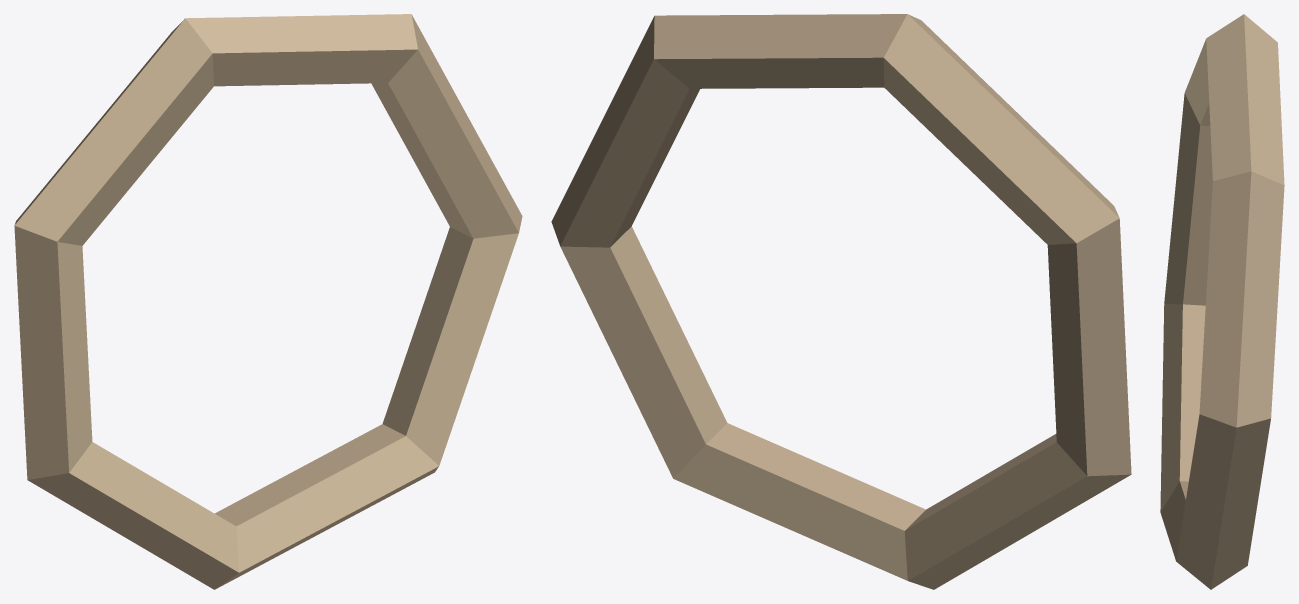
File: miscNoseRing.glb
3 renders of one model, left to right at view 1: azimuth 30°, elevation 25°; view 2: azimuth 150°, elevation 25°; view 3: azimuth 270°, elevation 25°, orthographic. The views are drawn at different scales.
Visible parts, largest first — view 1: miscNoseRing; view 2: miscNoseRing; view 3: miscNoseRing.
Boxes of the visible parts, x1,y1,x2,y2 form: miscNoseRing: (14,14,522,589); miscNoseRing: (551,14,1131,589); miscNoseRing: (1160,14,1284,589).
Bounding box in the file's own units: 0.0217 × 0.0222 × 0.0048.
